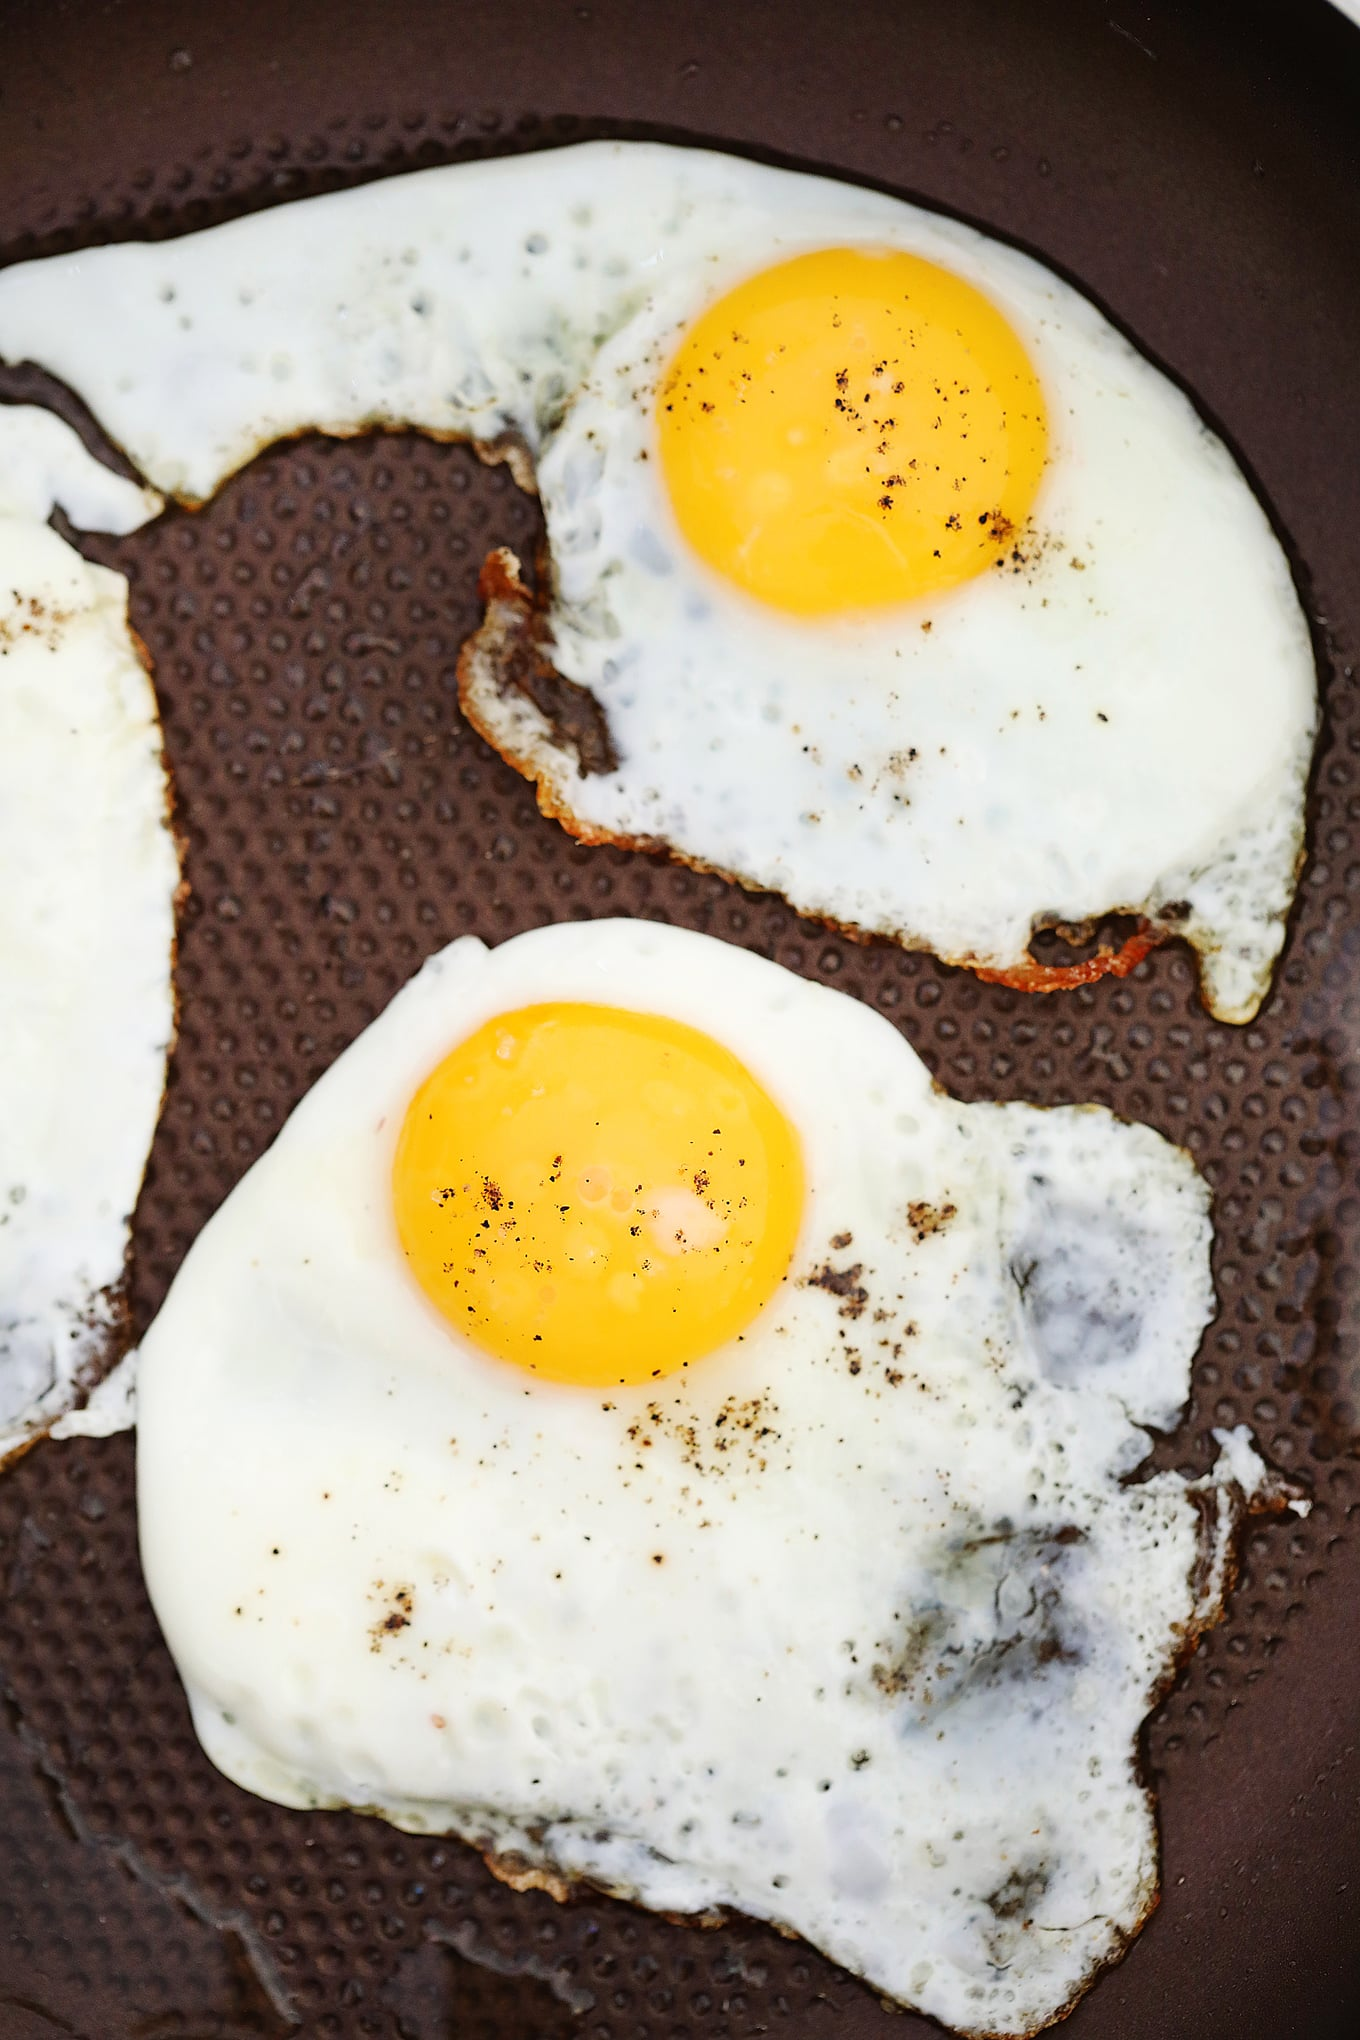Telur: (117, 886, 1100, 1870), (552, 191, 1283, 921)
